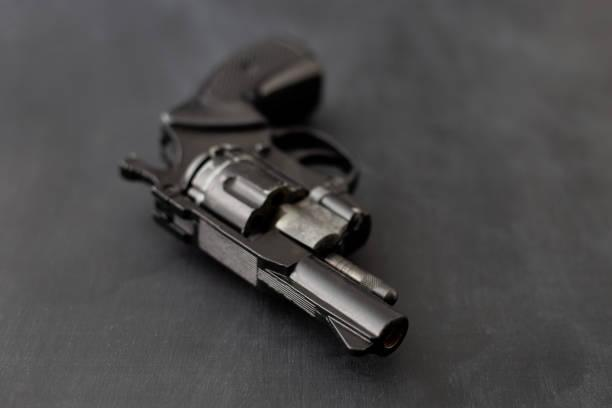weapon: (115, 29, 415, 361)
